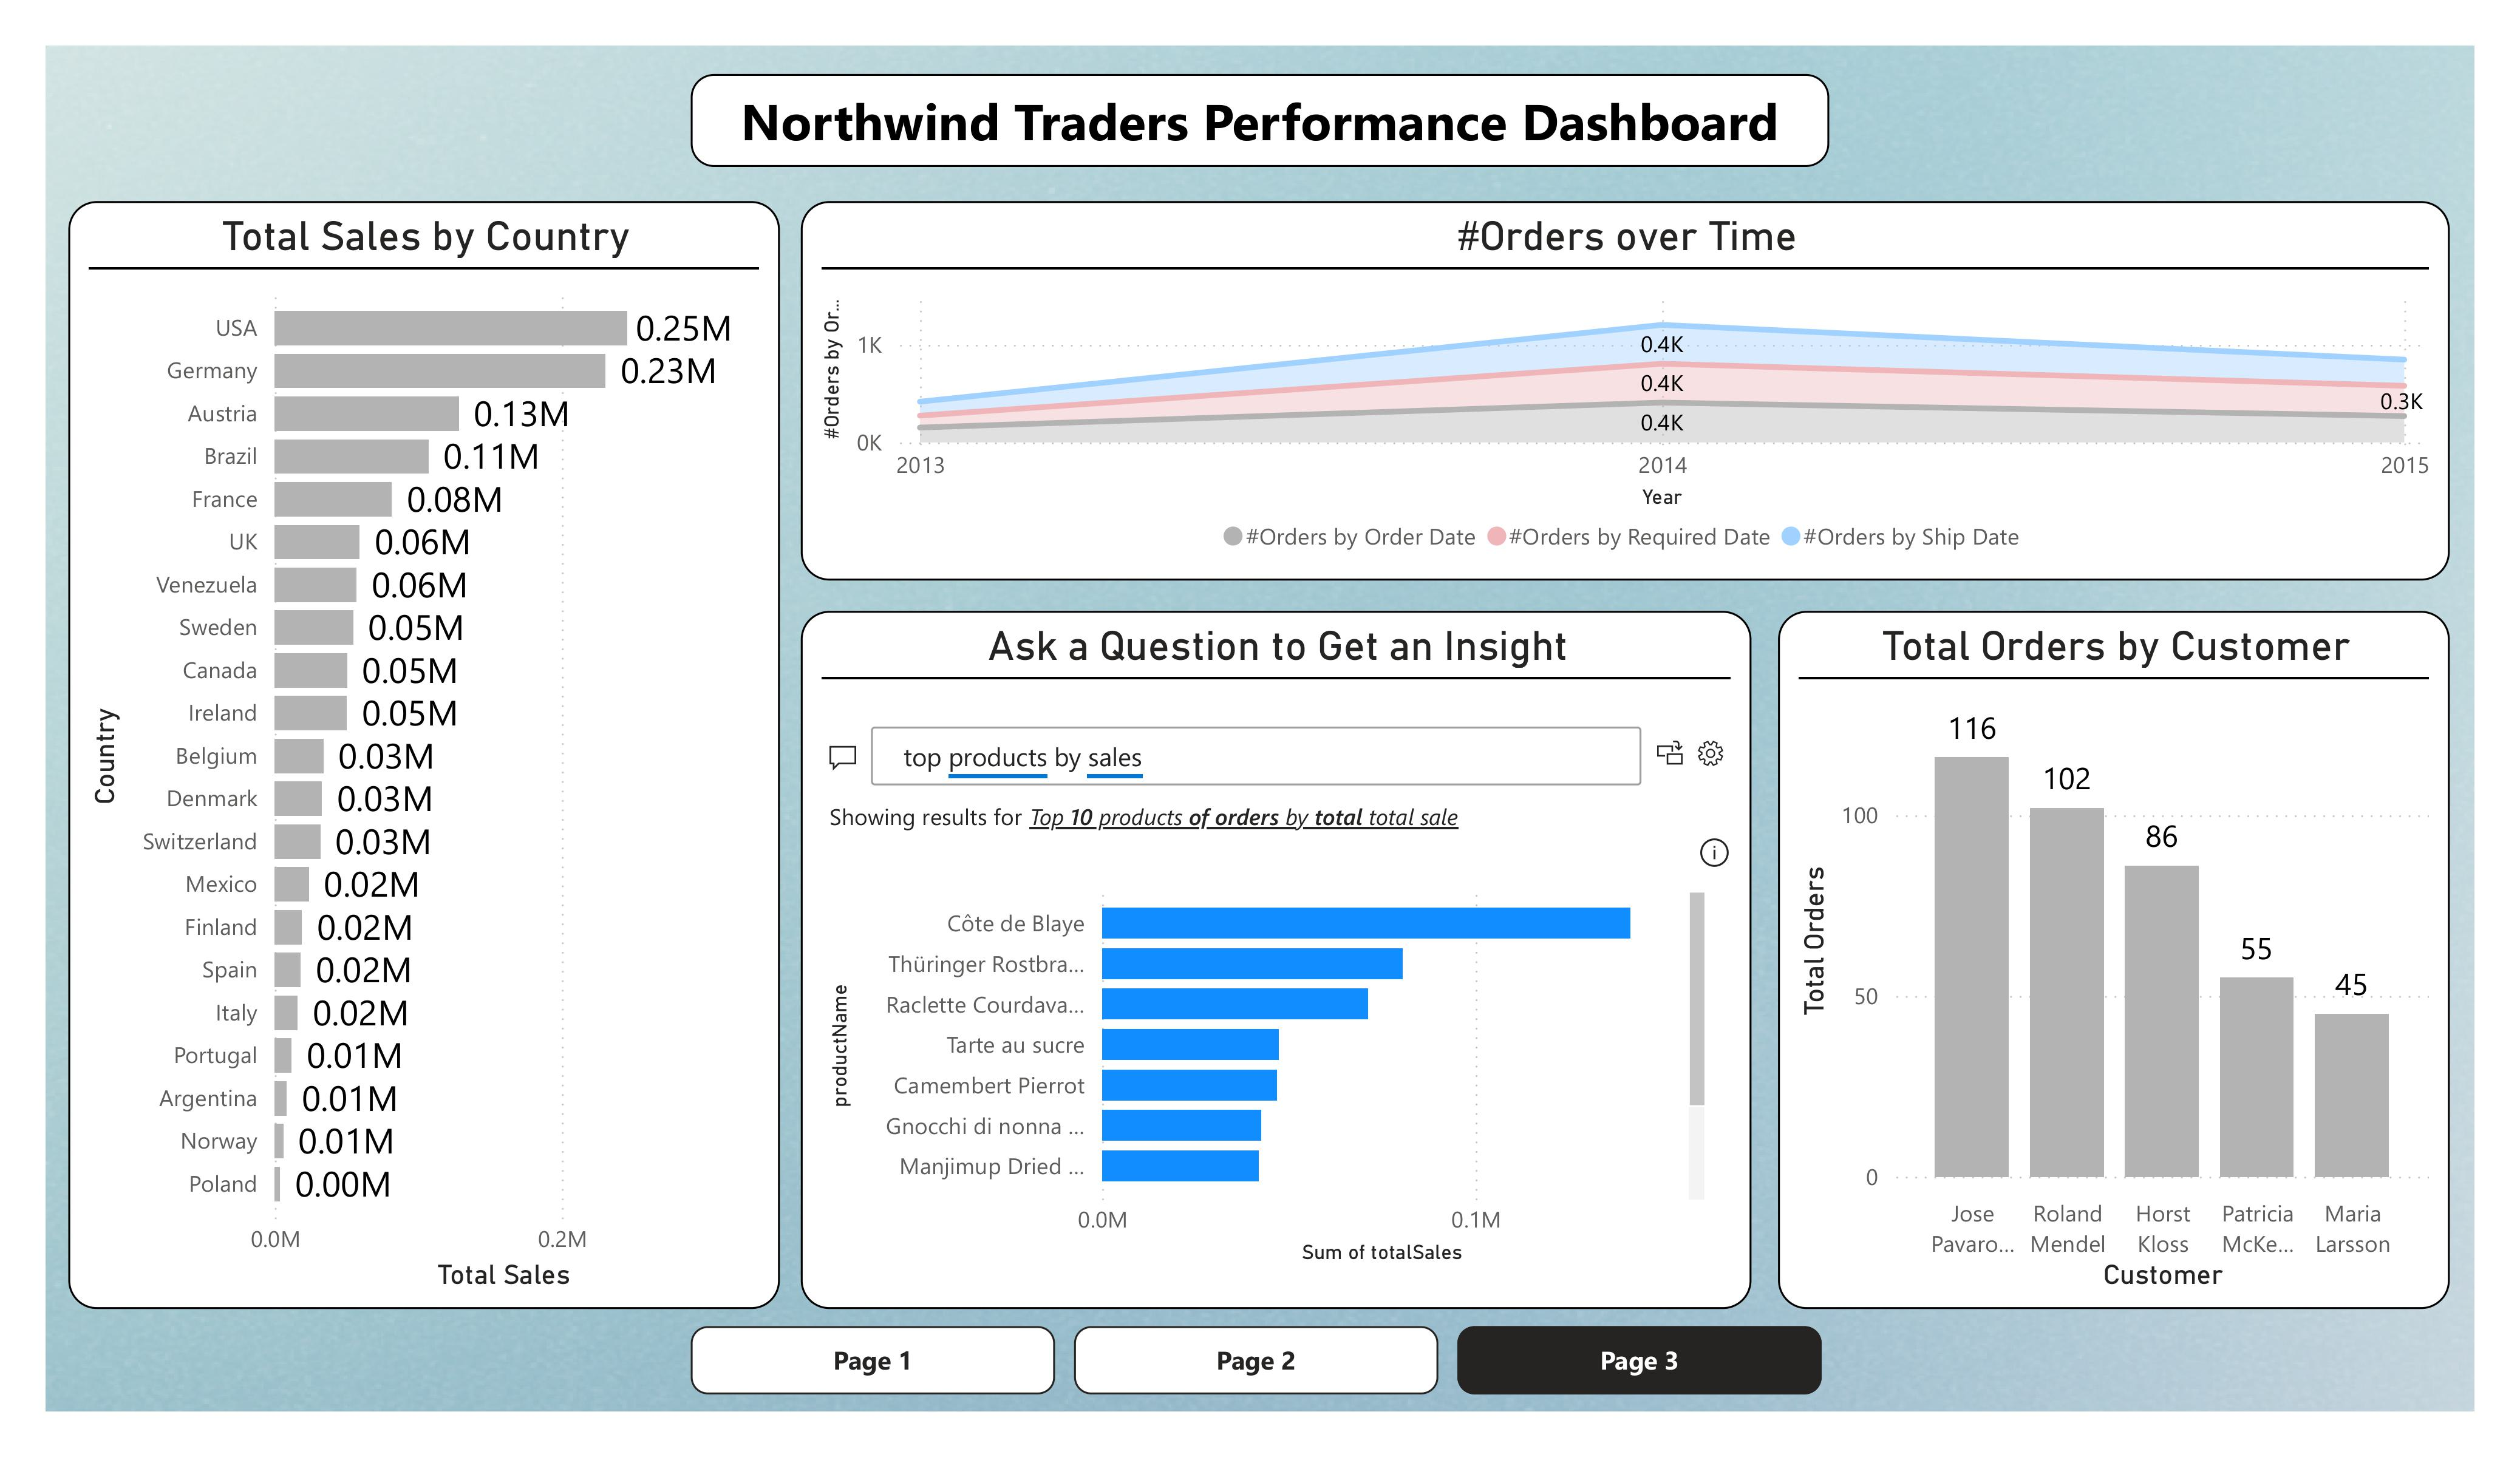

The page's visual inventory and layout, read from the dashboard file:
{"tool":"powerbi","page":{"name":"Page 3","canvas":[1280,720],"ordinal":2},"visuals":[{"type":"clusteredColumnChart","fields":{"Category":["customers.contactName"],"Y":["orders.orderID"]},"box":[912.5,297.8,354,367.8],"z":0},{"type":"clusteredBarChart","title":"Total Sales by Country","fields":{"Category":["customers.country"],"Y":["orders.totalSales"]},"box":[12.3,82.3,374.6,583.2],"z":1000},{"type":"qnaVisual","title":"Ask a Question to Get an Insight","box":[397.9,297.8,500.9,367.8],"z":3000},{"type":"stackedAreaChart","title":"Total Orders over Time","fields":{"Category":["DateDim.Date.Variation.Date Hierarchy.Year","DateDim.Date.Variation.Date Hierarchy.Quarter","DateDim.Date.Variation.Date Hierarchy.Month","DateDim.Date.Variation.Date Hierarchy.Day"],"Y":["orders.#Orders by Order Date","orders.#Orders by Required Date","orders.#Orders by Ship Date"]},"box":[397.9,82.3,868.6,200],"z":5000},{"type":"shape","box":[340.3,15.1,599.7,49.4],"z":6000},{"type":"pageNavigator","box":[340.3,675.1,596.9,35.7],"z":7000}]}

Visuals, with their boxes on the page's 1280x720 design canvas (x1, y1, x2, y2). These are canvas units, not pixel positions in the 2520x1457 screenshot, which may show the page scaled, cropped or inside an application window:
clusteredColumnChart - customers.contactName x orders.orderID: region(912, 298, 1266, 666)
"Total Sales by Country" clusteredBarChart: region(12, 82, 387, 666)
"Ask a Question to Get an Insight" qnaVisual: region(398, 298, 899, 666)
"Total Orders over Time" stackedAreaChart: region(398, 82, 1266, 282)
shape: region(340, 15, 940, 64)
pageNavigator: region(340, 675, 937, 711)
